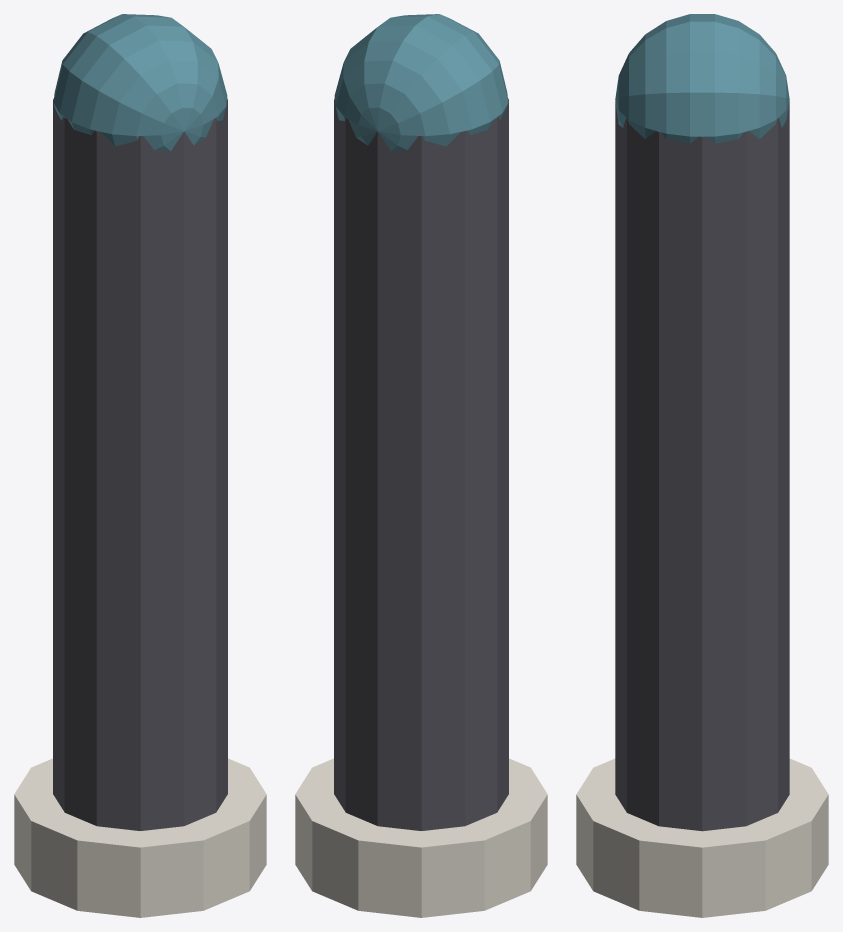
The model's file is mdl_urban_bollard_001.glb.
3 views of the same model, side by side, from view 1: azimuth 30°, elevation 25°; view 2: azimuth 150°, elevation 25°; view 3: azimuth 270°, elevation 25° (orthographic).
Visible parts, largest first — view 1: m_carbon, m_caliza, m_petroleo; view 2: m_carbon, m_caliza, m_petroleo; view 3: m_carbon, m_caliza, m_petroleo.
Part boxes in pixels (x1,y1,x2,y2): m_carbon: [53, 98, 227, 830]; m_caliza: [14, 758, 266, 917]; m_petroleo: [53, 14, 227, 151]; m_carbon: [334, 98, 508, 830]; m_caliza: [295, 758, 547, 917]; m_petroleo: [334, 14, 508, 151]; m_carbon: [615, 102, 789, 831]; m_caliza: [576, 758, 828, 917]; m_petroleo: [615, 14, 789, 143].
Size of the model in its own units: 0.26 by 0.9588 by 0.26.
